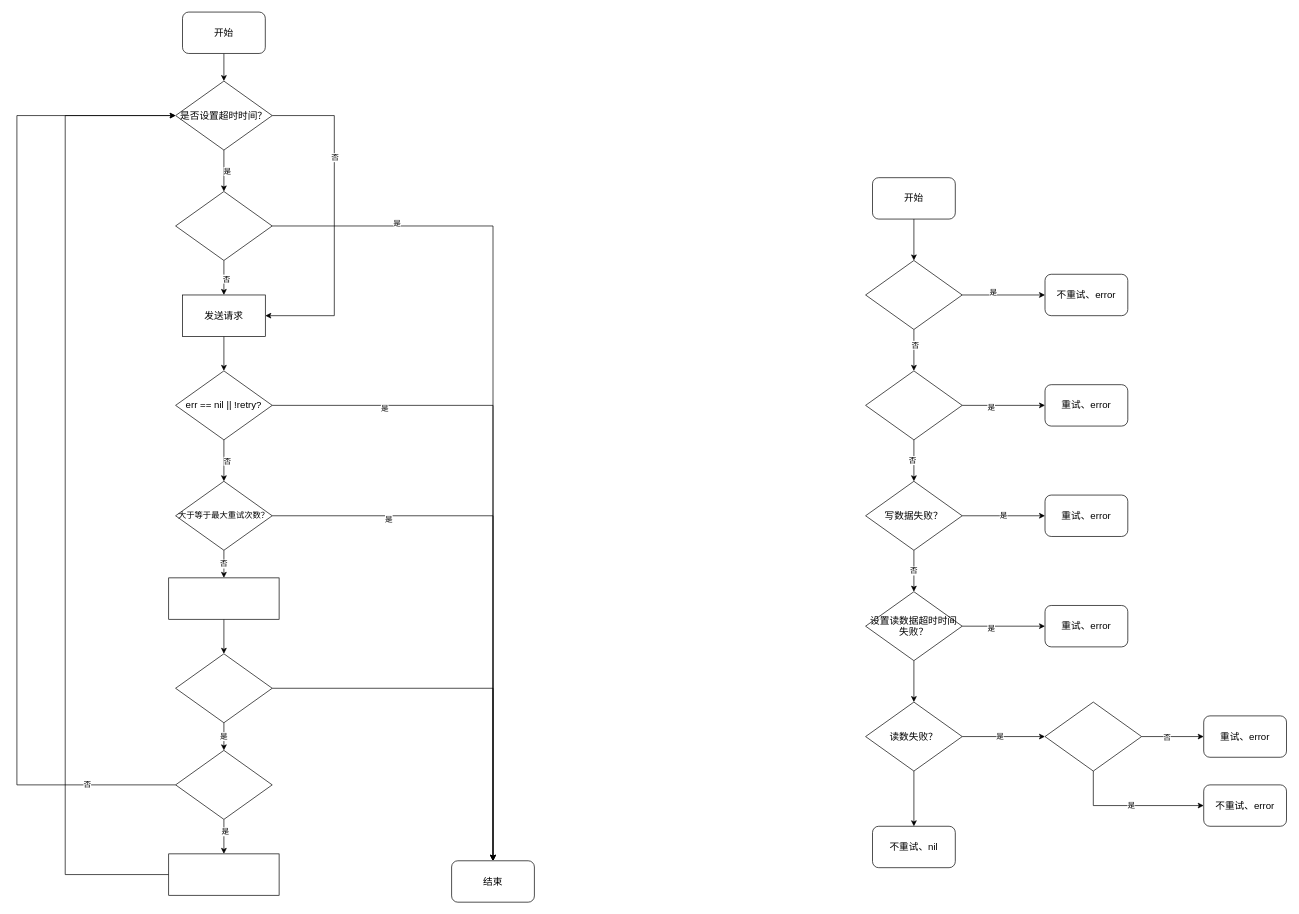
The diagram is 1299 pixels wide and 914 high, and some of its shapes have lost their labels. The centre of each missing label's shape, as x and y in pixels:
数据超过大小限制？: the point at 1093,736
是否达到超时时间？: the point at 223,225
是否需要重置超时时间？: the point at 223,784
是否需要重试？: the point at 223,688
根据函数设置是否需要重置超时时间，和是否需要重试: the point at 223,598
设置写数据超时时间失败？: the point at 913,405
连接建立失败？: the point at 913,294
重置超时时间: the point at 223,874
